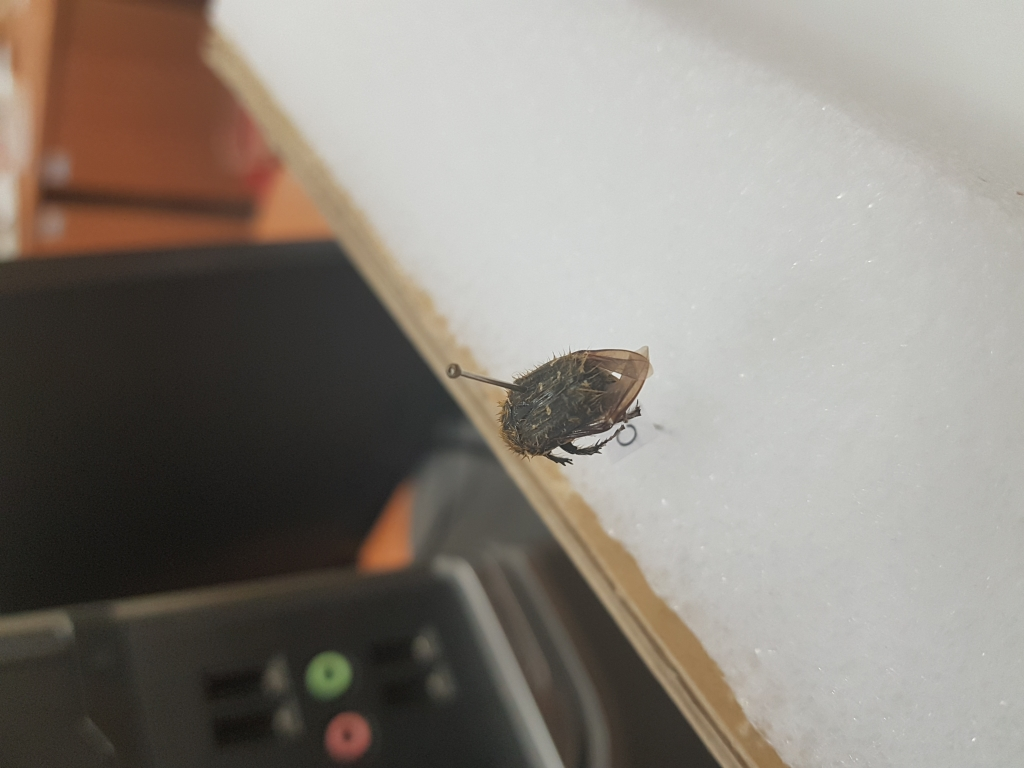Tropinota_hirta: (492, 327, 659, 471)
